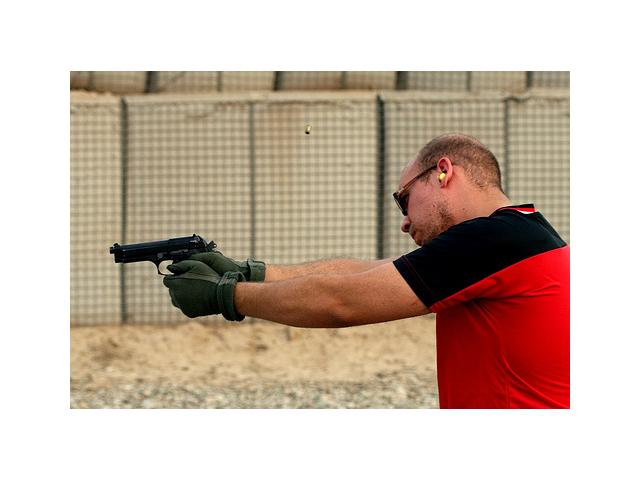pistol: (110, 235, 223, 315)
